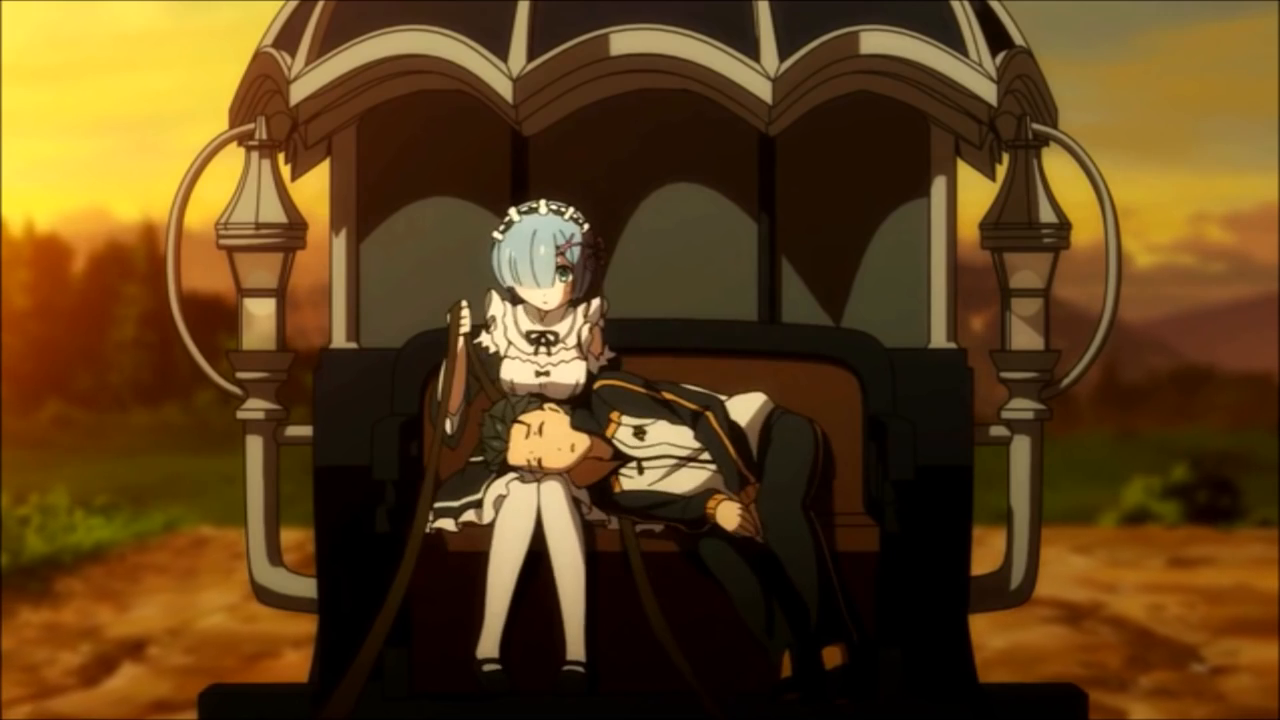REM: (488, 195, 604, 316)
